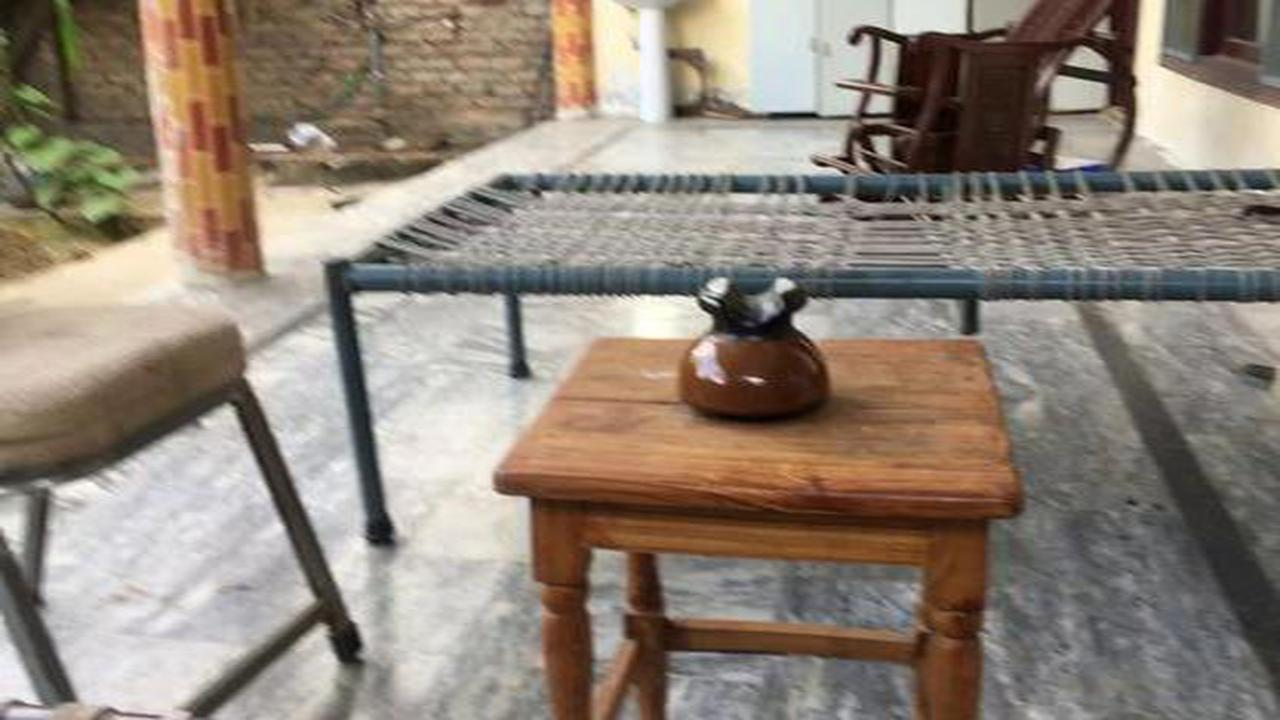insulator_pin: (659, 260, 859, 425)
